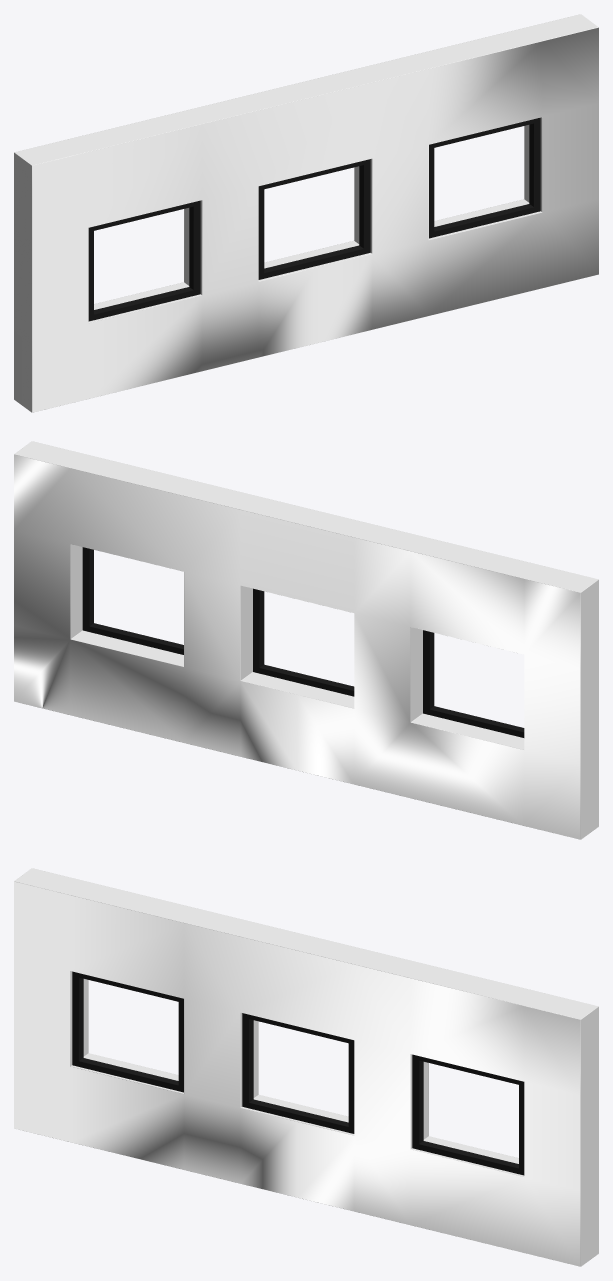
Rendered from StraightWallPanel.fbx.
The picture shows the model from 3 angles, top to bottom: view 1: azimuth 30°, elevation 25°; view 2: azimuth 150°, elevation 25°; view 3: azimuth 330°, elevation 25°; orthographic projection.
Parts seen in each view (by area): view 1: StraightWallPanel; view 2: StraightWallPanel; view 3: StraightWallPanel.
Boxes of the visible parts, bbox=[...] form: StraightWallPanel: bbox=[14, 14, 598, 412]; StraightWallPanel: bbox=[14, 441, 598, 839]; StraightWallPanel: bbox=[14, 868, 598, 1266].
Bounding box in the file's own units: 360 × 150 × 20.
Materials: 2 (2 with a texture image).
